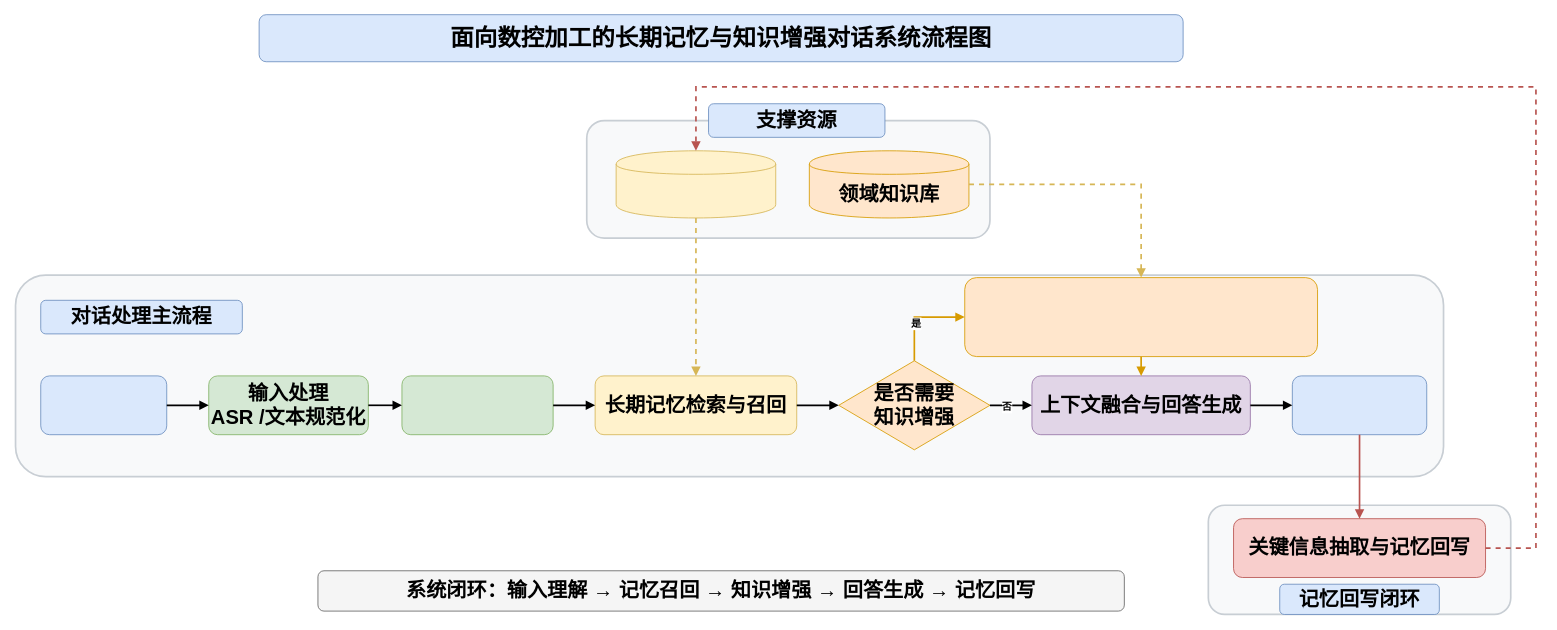
This 1557x630 diagram has some shape labels left out. The shapes that lost their labels are listed below. From the top down, each one's centre as x and y in pixels, then its label:
At pixel 695 184: "长期记忆库".
At pixel 1141 317: "知识检索与证据组织 术语匹配 / 语义检索 / 结果整理".
At pixel 103 405: "用户输入 语音/文本".
At pixel 477 405: "任务理解与 问题识别".
At pixel 1359 405: "回答输出 文本/语音".
